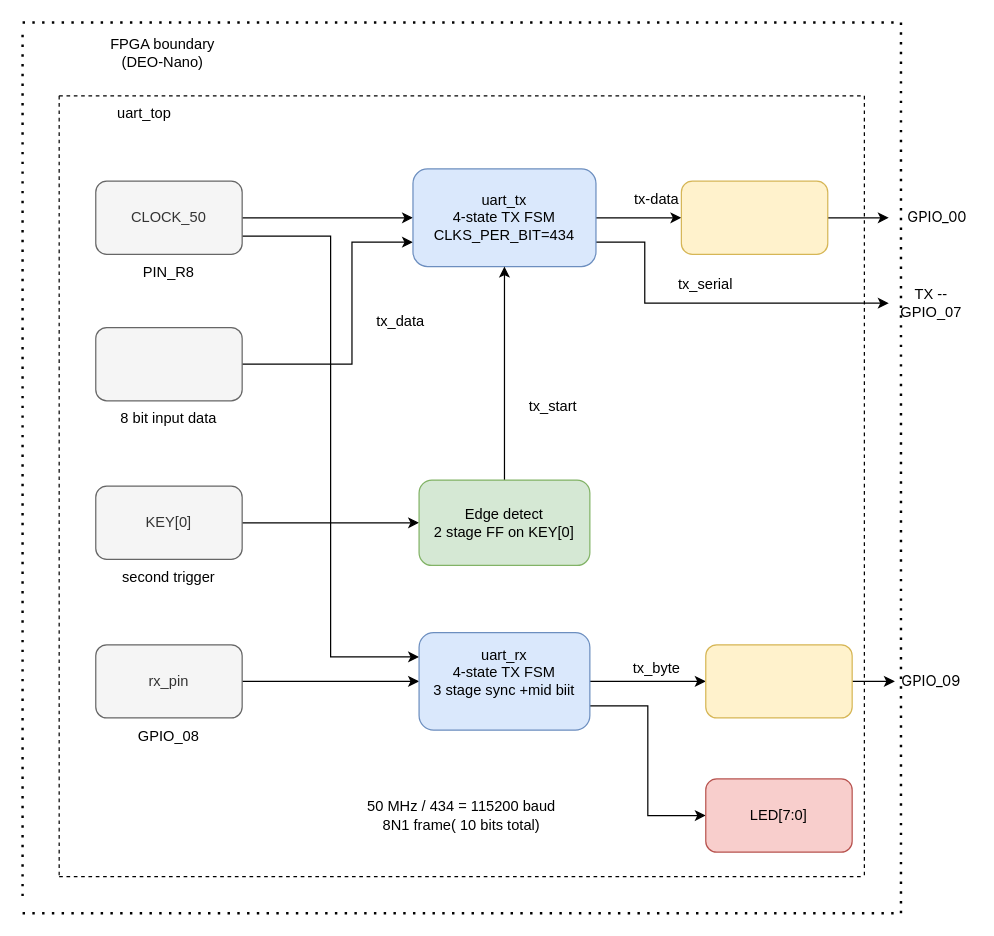
Some shapes in this 994 by 936 pixel diagram are drawn without their labels. Each missing label, with the centre of its shape:
"seven_seg(RX)" belongs at point (778, 681).
"seven_seg(TX)" belongs at point (754, 217).
"SW[7:0]" belongs at point (168, 363).
